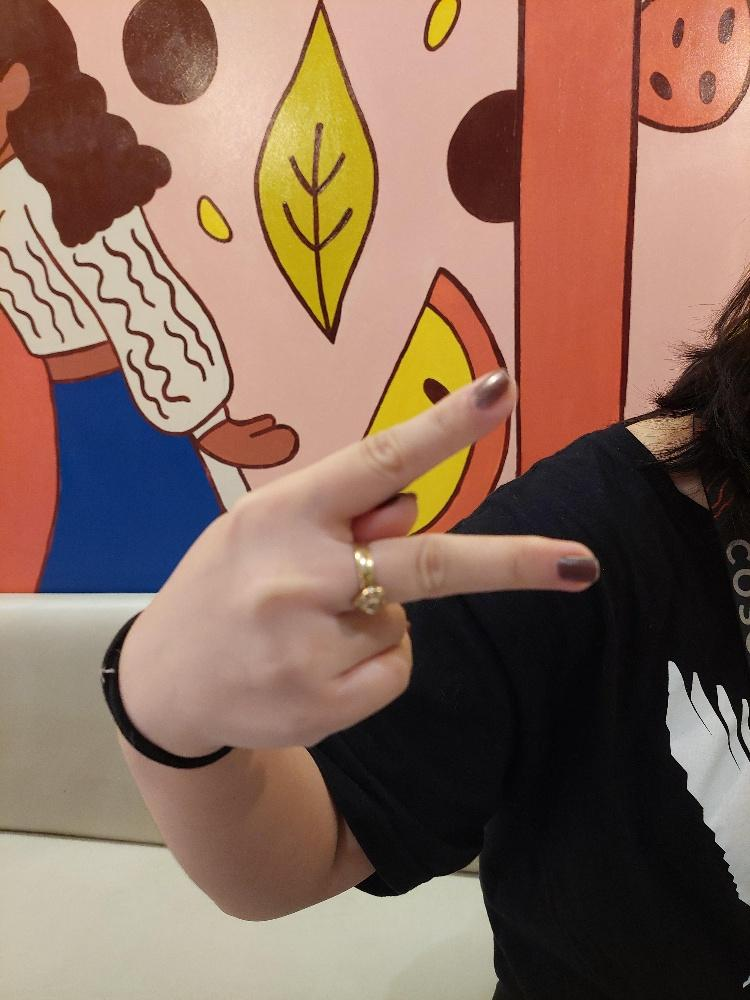k: (125, 362, 601, 752)
